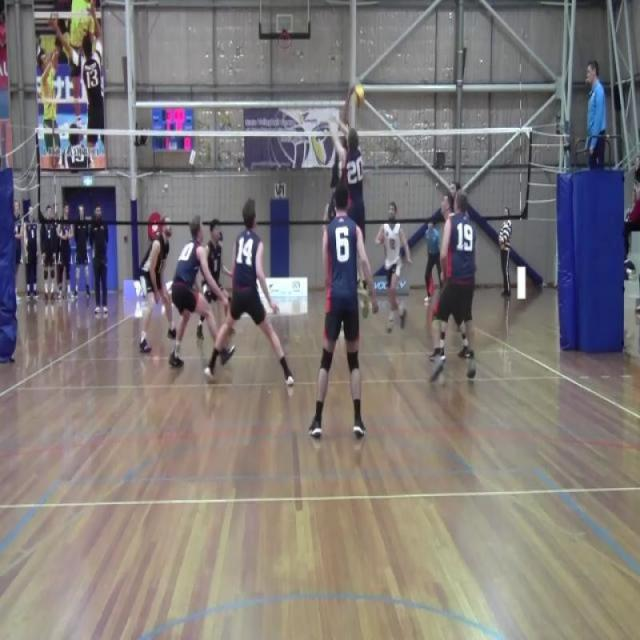volleyball: (351, 82, 366, 110)
